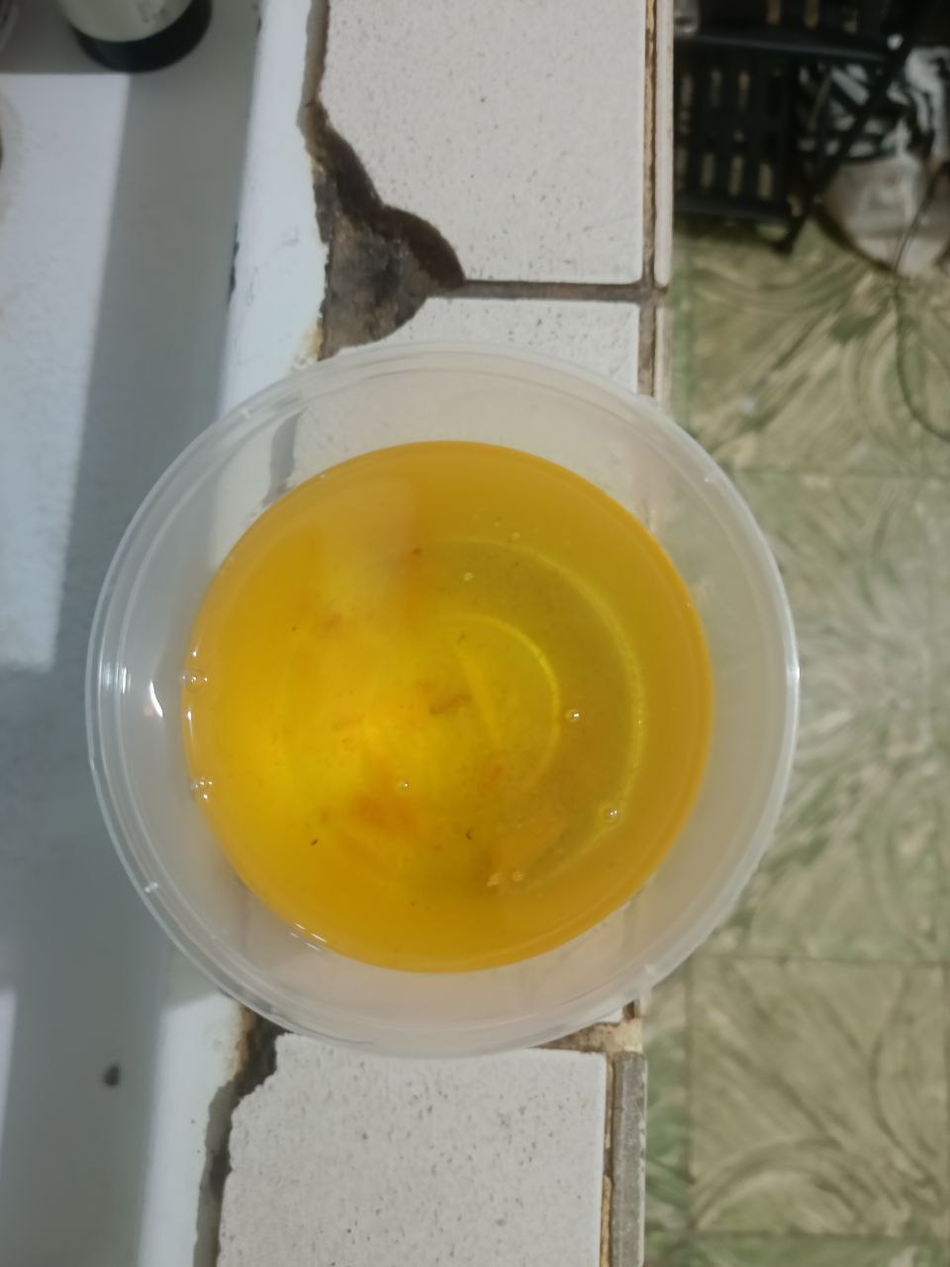reusable: (188, 445, 709, 973)
